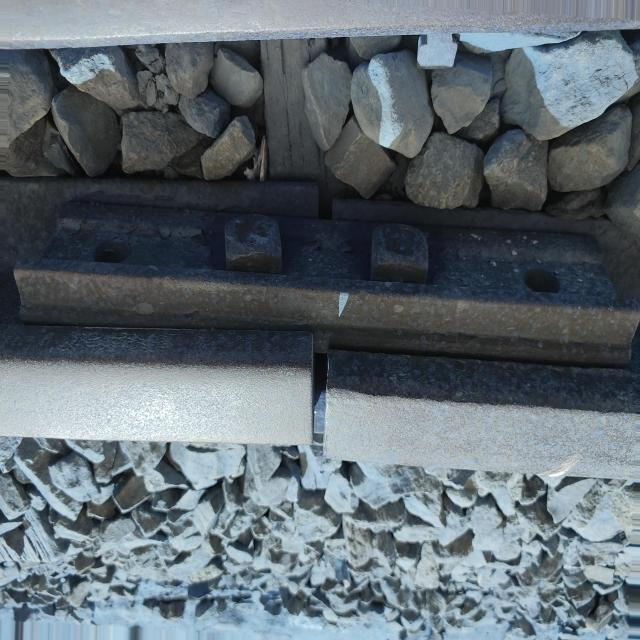Defective Joint: (11, 209, 640, 345)
